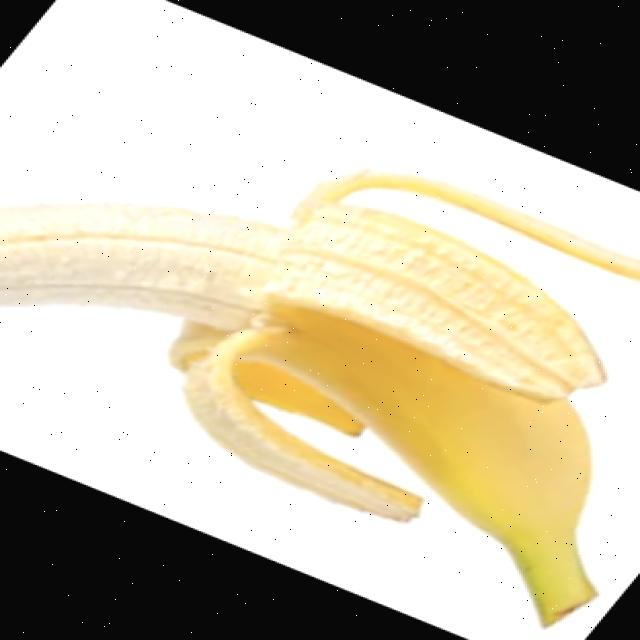god quality banana: (2, 172, 638, 625)
